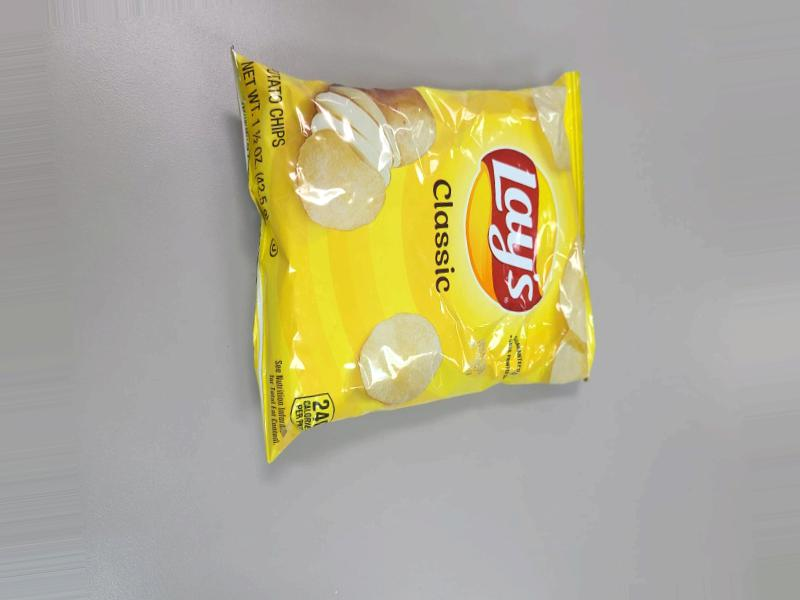lays: (220, 71, 604, 465)
